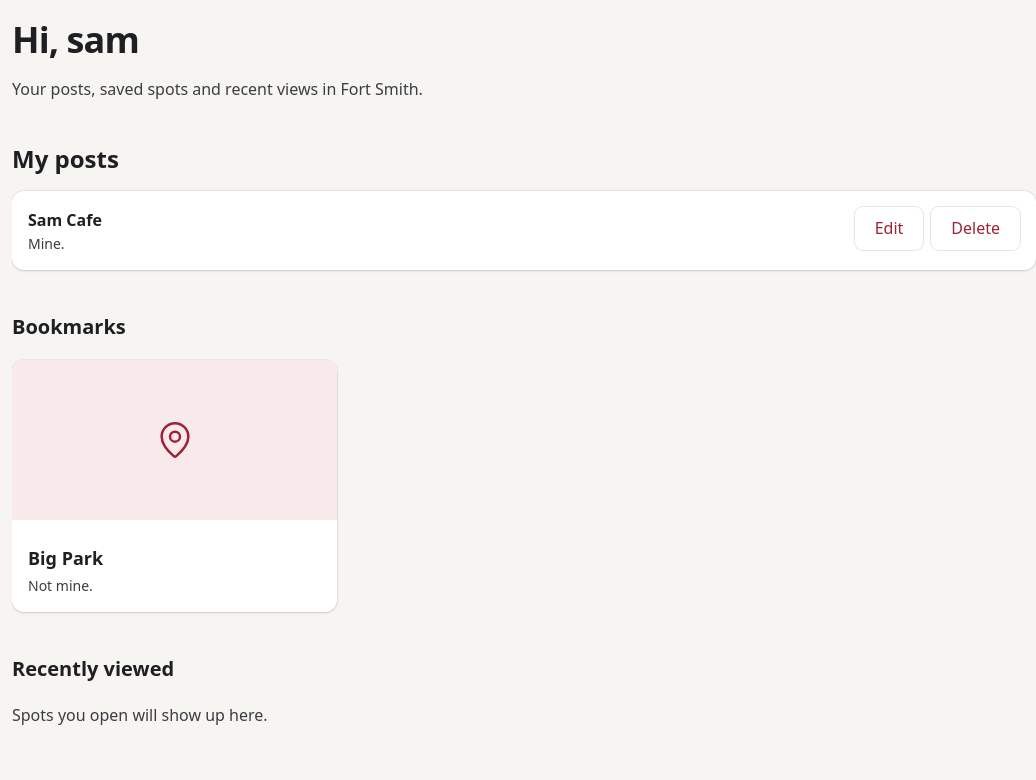
Test: deletes a post after confirming
Check: the heading "Sam Cafe" is shown, box 28,207 -> 102,234
Click the button "Delete". click: (976, 229)
box: 931,207 -> 1020,250
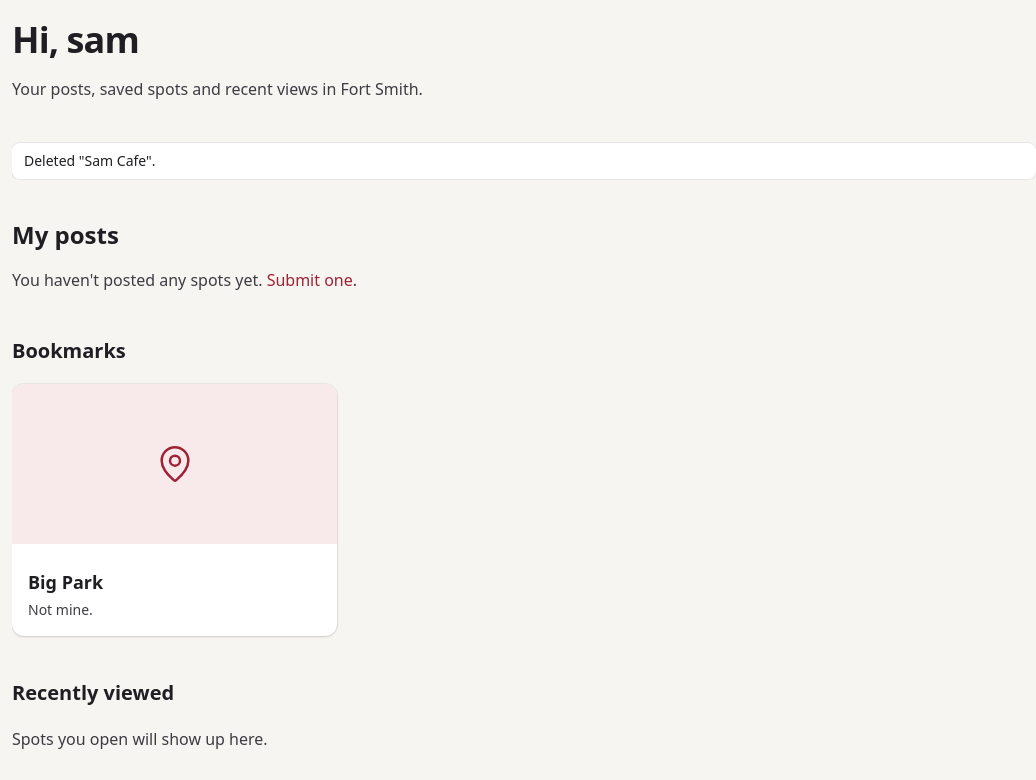
Check: the text "Deleted \"Sam Cafe\"." is shown, box 12,143 -> 1035,179
Check: the button "Edit" is gone
